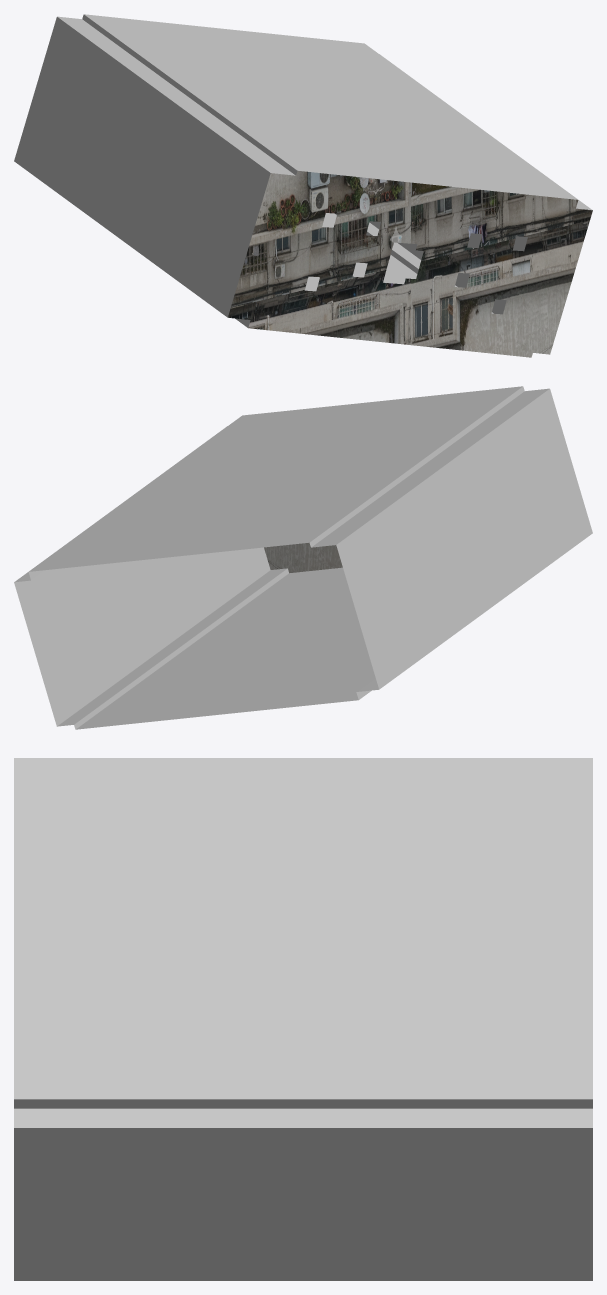
Rendered from geospecific_288.obj.
The picture shows the model from 3 angles, top to bottom: view 1: azimuth 30°, elevation 25°; view 2: azimuth 150°, elevation 25°; view 3: azimuth 270°, elevation 25°; orthographic projection. The views are drawn at different scales.
Parts seen in each view (by area): view 1: Building; view 2: Building; view 3: Building.
Boxes of the visible parts, x1,y1,x2,y2 form: Building: [14, 14, 592, 357]; Building: [14, 386, 592, 729]; Building: [14, 758, 592, 1280].
Bounding box in the file's own units: 59.18 × 38.67 × 60.
